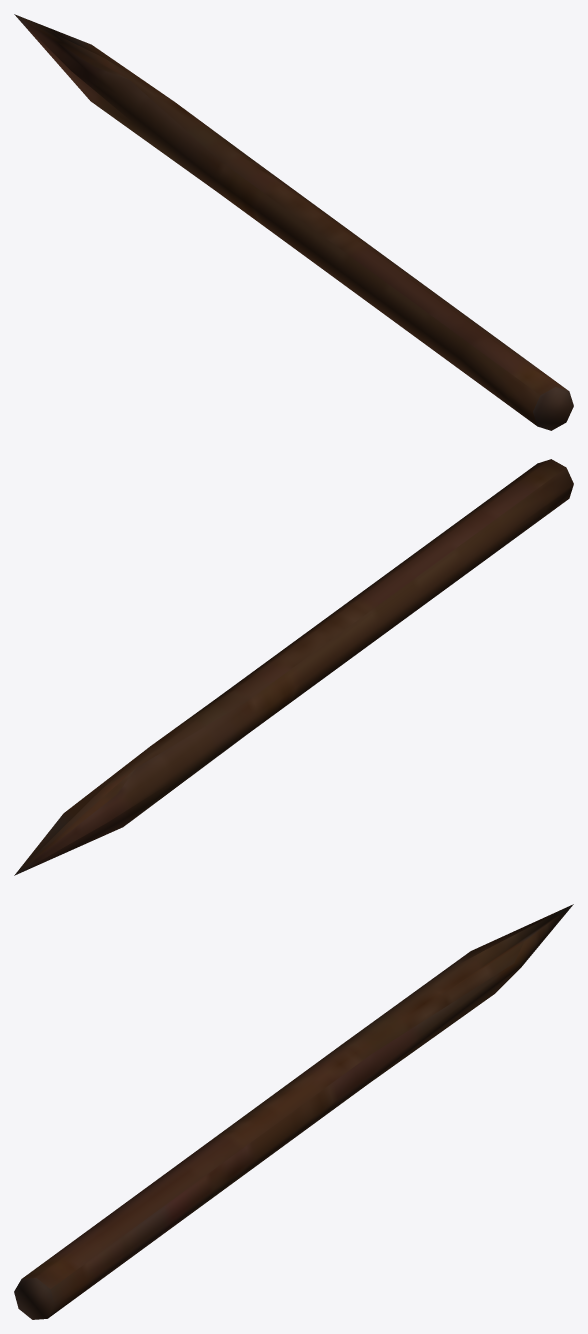
File: arrow_stuck_snapped.glb
3 views of the same model, one above another, from view 1: azimuth 30°, elevation 25°; view 2: azimuth 150°, elevation 25°; view 3: azimuth 330°, elevation 25° (orthographic).
Parts seen in each view (by area): view 1: arrow_stuck_snapped; view 2: arrow_stuck_snapped; view 3: arrow_stuck_snapped.
Boxes of the visible parts, <box> form: arrow_stuck_snapped: <box>14,14,573,430</box>; arrow_stuck_snapped: <box>14,459,573,875</box>; arrow_stuck_snapped: <box>14,904,573,1319</box>.
Bounding box in the file's own units: 0.00837 × 0.00846 × 0.19.
1 material, 1 textured.
